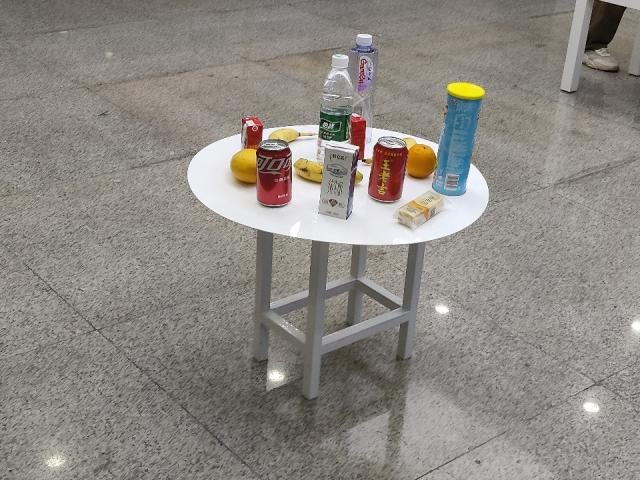Canned_drinks: (258, 141, 292, 204), (374, 138, 404, 202)
bottle: (321, 54, 348, 142), (352, 38, 378, 113)
cylinder: (442, 80, 474, 192)
drink_box: (323, 145, 353, 216), (352, 116, 368, 156), (241, 117, 258, 145)
